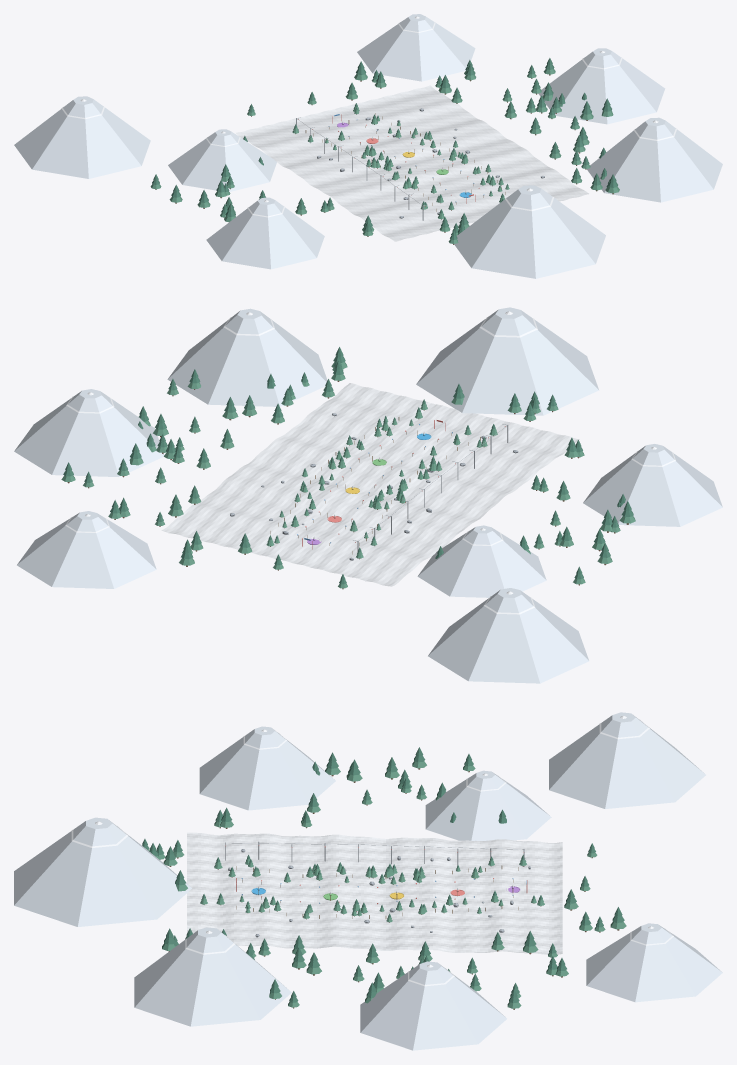
Rendered from ski_slope.glb.
3 renders of one model, top to bottom at view 1: azimuth 30°, elevation 25°; view 2: azimuth 150°, elevation 25°; view 3: azimuth 270°, elevation 25°, orthographic. The views are drawn at different scales.
Visible parts, largest first — view 1: Distant.001, Terrain, Scenery; view 2: Distant.001, Terrain, Scenery; view 3: Distant.001, Terrain, Scenery.
Boxes of the visible parts, x1,y1,x2,y2 form: Distant.001: (14,14,722,278); Terrain: (236,85,588,241); Scenery: (292,103,544,219); Distant.001: (14,307,722,683); Terrain: (161,383,579,586); Scenery: (230,399,518,560); Distant.001: (14,712,722,1050); Terrain: (187,832,562,954); Scenery: (200,849,544,937).
Bounding box in the file's own units: 272 × 32.76 × 257.
